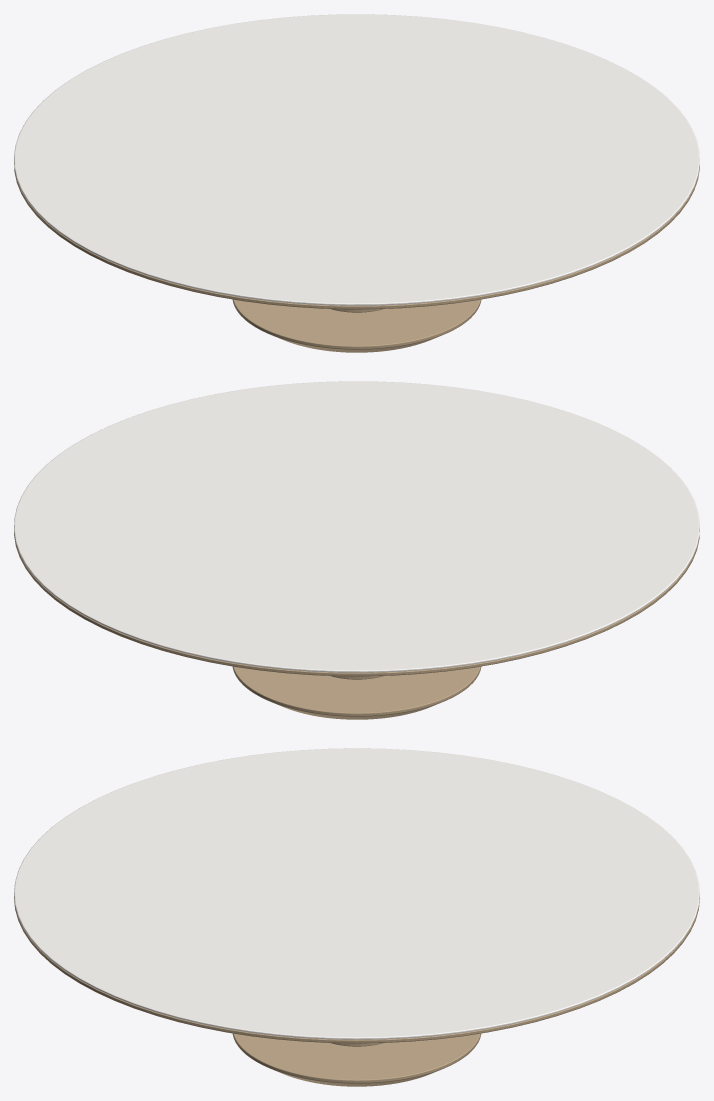
Rendered from orbit_d110h26_hoje.glb.
3 views of the same model, one above another, from view 1: azimuth 30°, elevation 25°; view 2: azimuth 150°, elevation 25°; view 3: azimuth 270°, elevation 25° (orthographic).
Visible parts, largest first — view 1: Top Orbit Coffee Table 031, Base Orbit Coffee Table 031, Undertop Orbit Coffee Table 031; view 2: Top Orbit Coffee Table 031, Base Orbit Coffee Table 031, Undertop Orbit Coffee Table 031; view 3: Top Orbit Coffee Table 031, Base Orbit Coffee Table 031, Undertop Orbit Coffee Table 031.
Boxes of the visible parts, x1,y1,x2,y2 form: Top Orbit Coffee Table 031: (14, 14, 699, 305); Base Orbit Coffee Table 031: (232, 299, 481, 352); Undertop Orbit Coffee Table 031: (14, 162, 699, 309); Top Orbit Coffee Table 031: (14, 381, 699, 672); Base Orbit Coffee Table 031: (232, 666, 481, 719); Undertop Orbit Coffee Table 031: (14, 529, 699, 676); Top Orbit Coffee Table 031: (14, 748, 699, 1039); Base Orbit Coffee Table 031: (232, 1033, 481, 1086); Undertop Orbit Coffee Table 031: (14, 896, 699, 1043).
Size of the model in its own units: 1.1 by 0.264 by 1.1.
